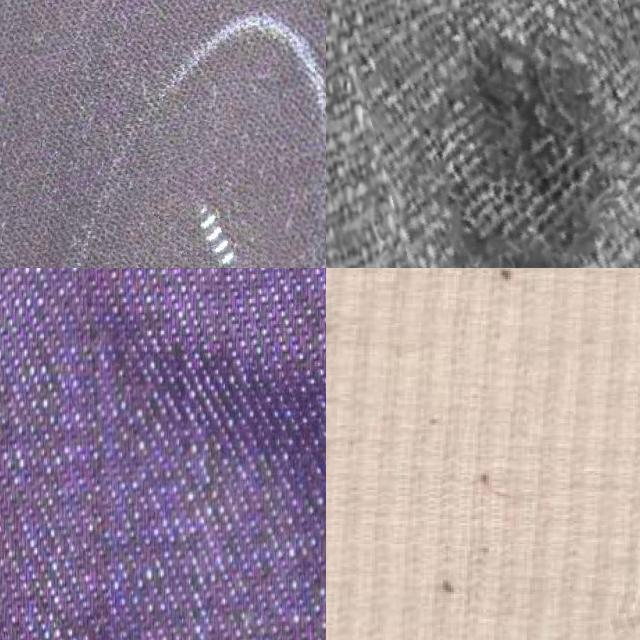other: (370, 0, 640, 268)
stains: (143, 153, 283, 268)
